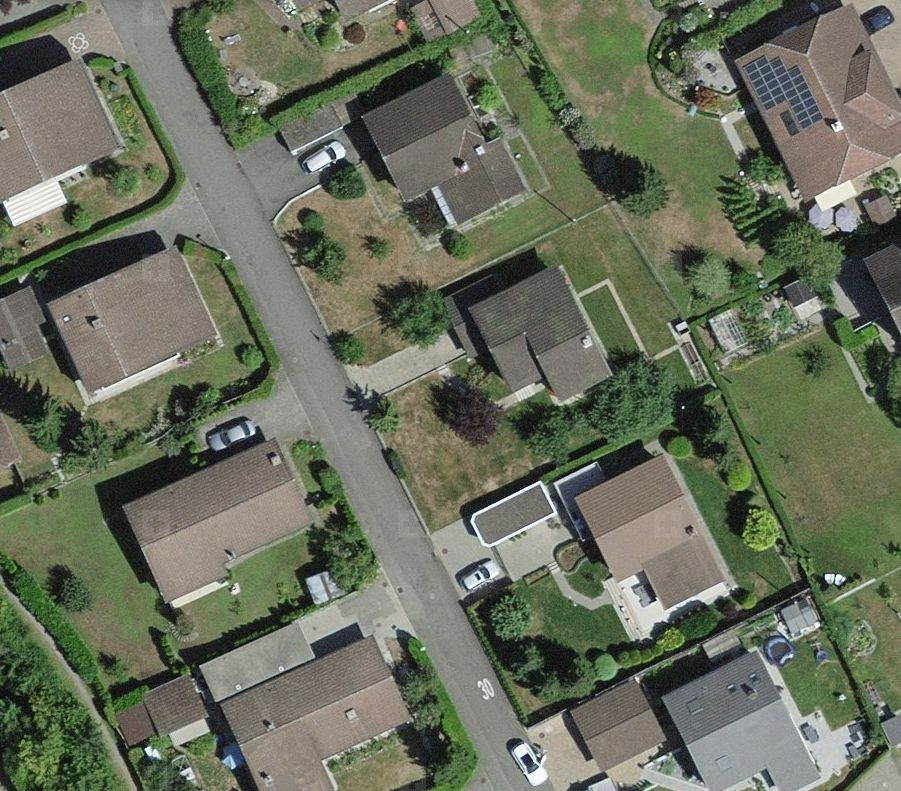solar: (743, 54, 821, 132)
